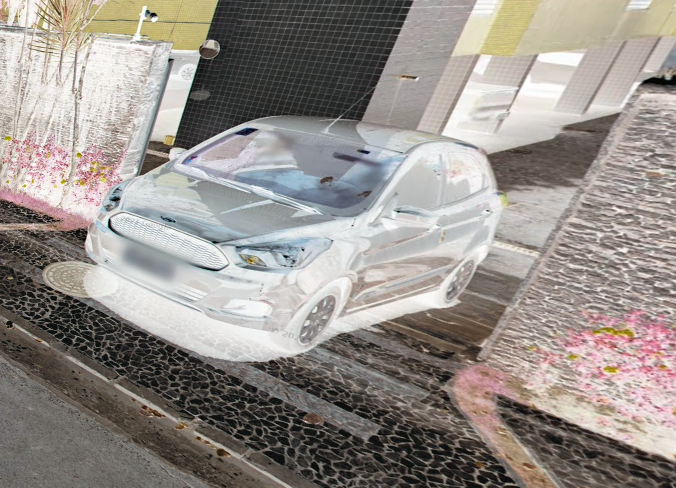car: (83, 75, 507, 355)
